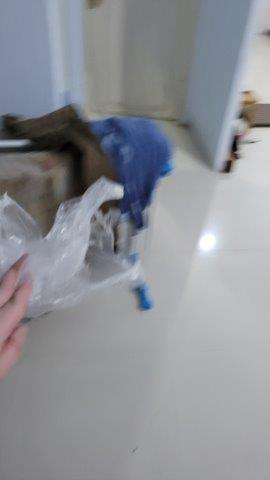plastik: (1, 179, 146, 322)
